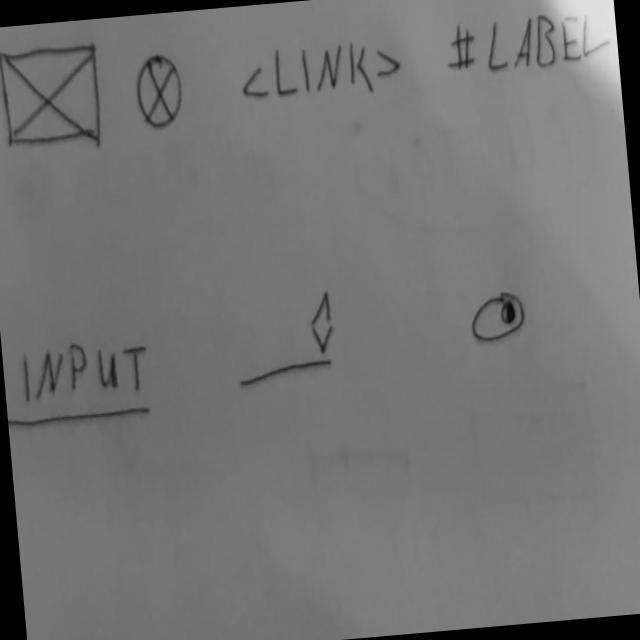image: (0, 37, 107, 155), (132, 49, 186, 132)
input: (1, 332, 156, 433)
label: (443, 2, 614, 84)
link: (236, 30, 405, 108)
number-input: (226, 284, 342, 392)
toggle: (467, 286, 529, 344)
